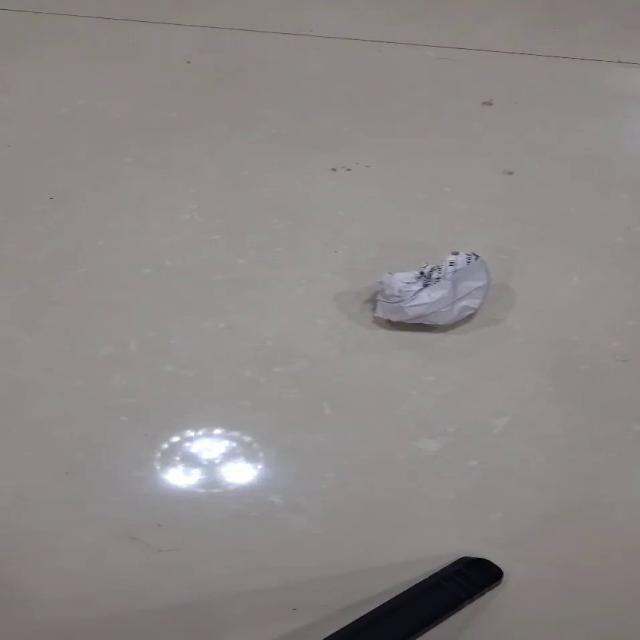paper: (371, 250, 490, 326)
